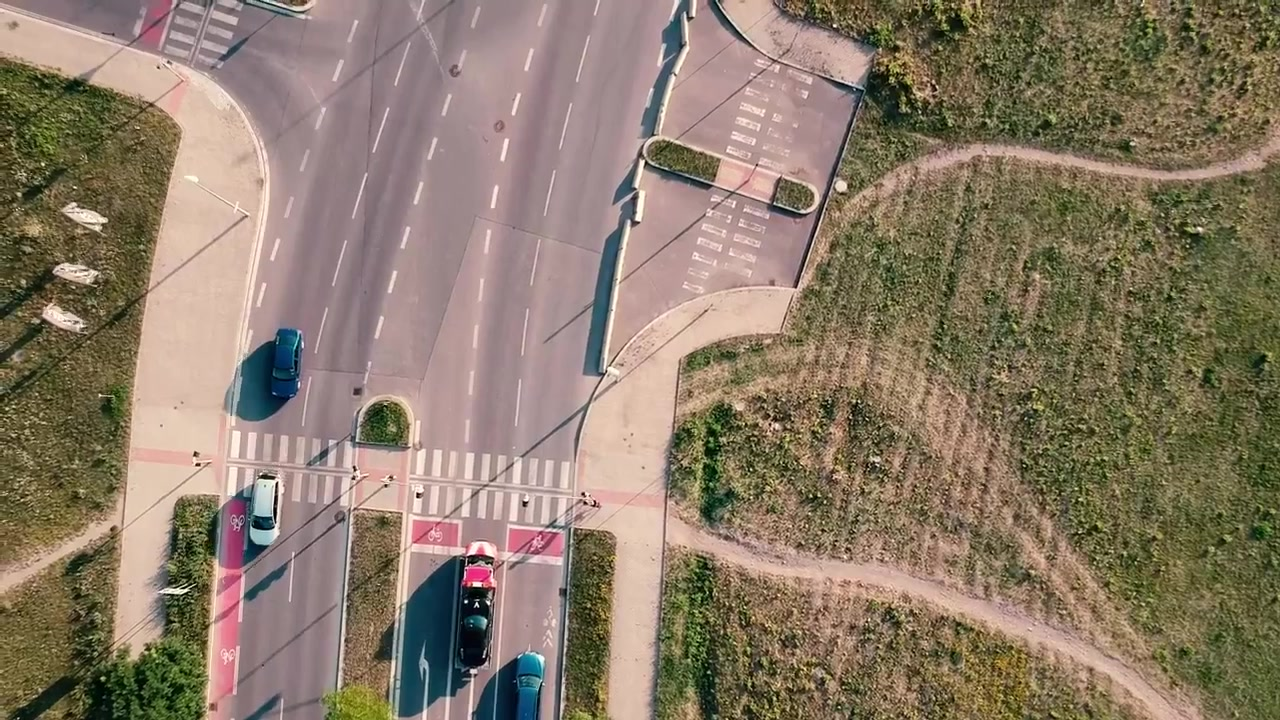car: (452, 535, 501, 676), (265, 322, 304, 401), (247, 470, 286, 548), (513, 651, 547, 720)
